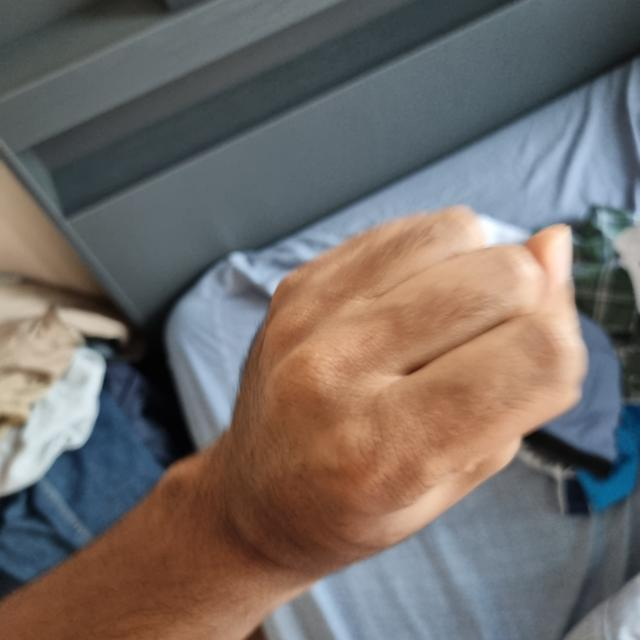Rock: (217, 207, 583, 574)
